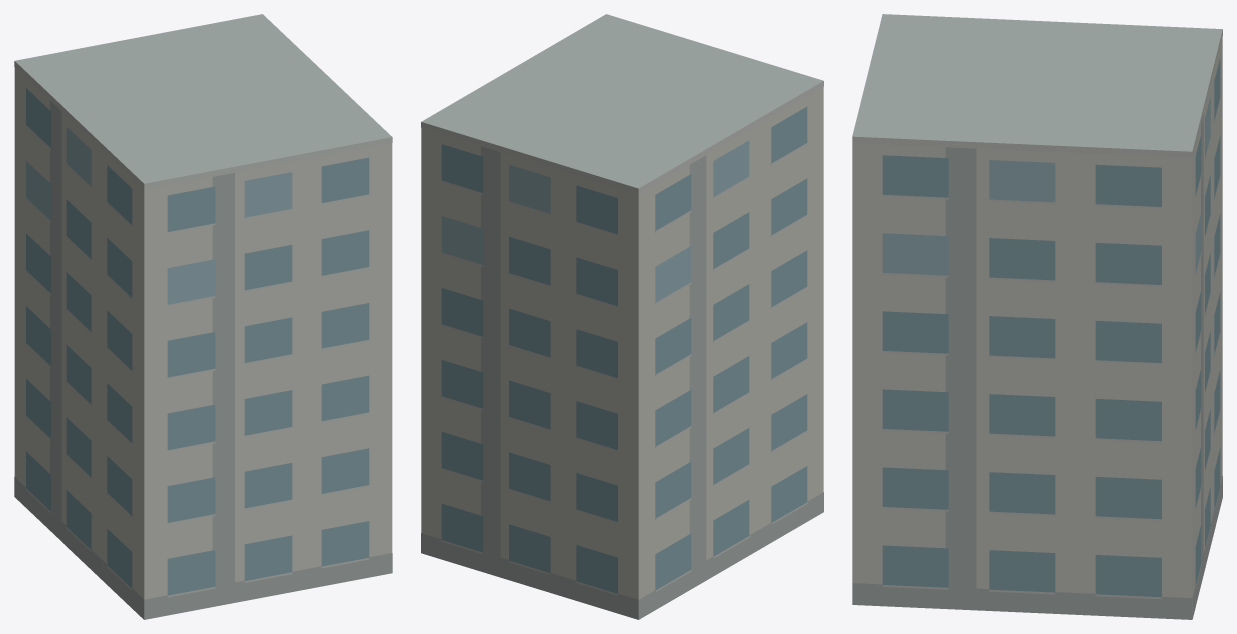
Rendered from survey-upis-32565910.glb.
3 renders of one model, left to right at view 1: azimuth 30°, elevation 25°; view 2: azimuth 150°, elevation 25°; view 3: azimuth 270°, elevation 25°, orthographic. The views are drawn at different scales.
Parts seen in each view (by area): view 1: survey-upis-32565910.tmp; view 2: survey-upis-32565910.tmp; view 3: survey-upis-32565910.tmp.
Part boxes in pixels (x1,y1,x2,y2): survey-upis-32565910.tmp: [14, 14, 392, 619]; survey-upis-32565910.tmp: [421, 14, 823, 619]; survey-upis-32565910.tmp: [852, 14, 1222, 619].
Size of the model in its own units: 11.11 by 17.6 by 12.64.
